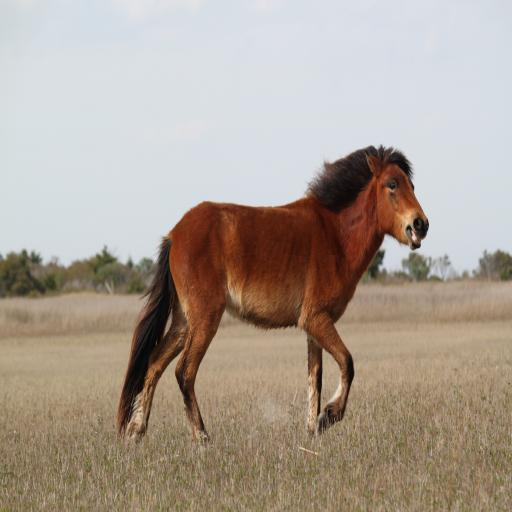horse: (115, 142, 432, 440)
